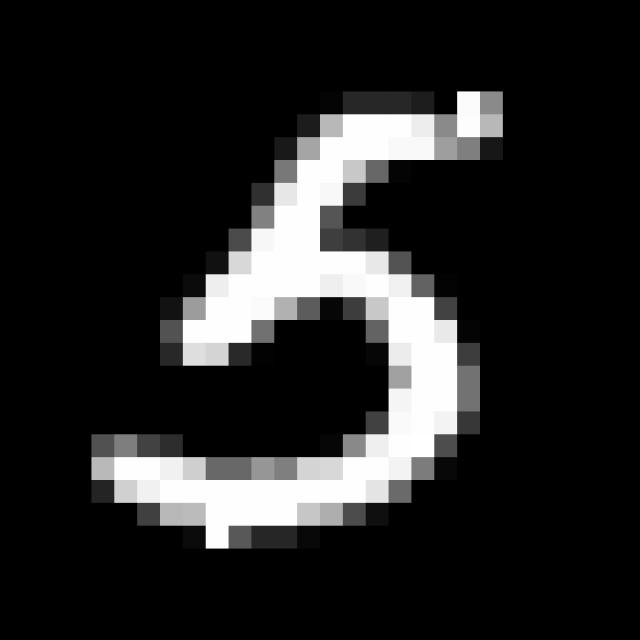five -5-: (82, 68, 494, 542)
